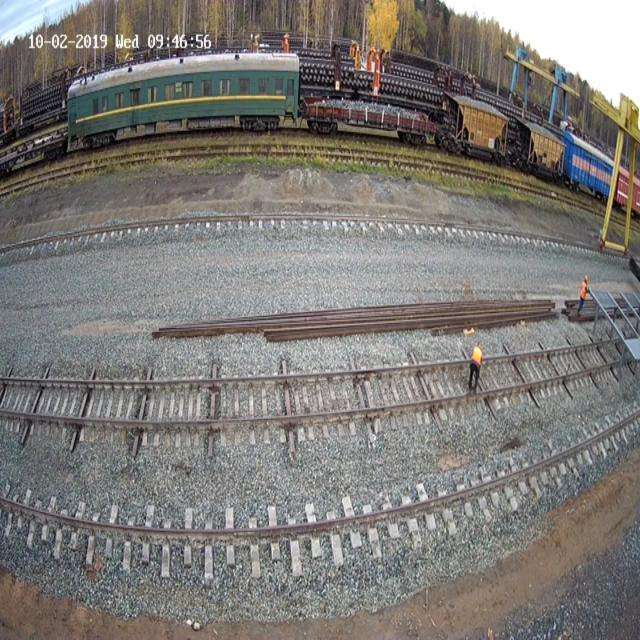Person: (468, 341, 482, 393), (577, 275, 588, 316)
